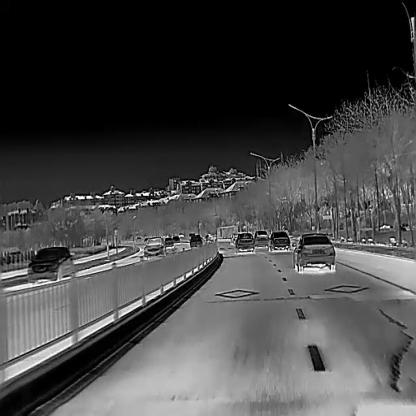car: (25, 245, 74, 283), (292, 233, 335, 270), (143, 235, 166, 258), (266, 231, 290, 251), (234, 232, 254, 253), (254, 229, 269, 249), (188, 234, 203, 247), (164, 236, 174, 247), (173, 235, 179, 242)
